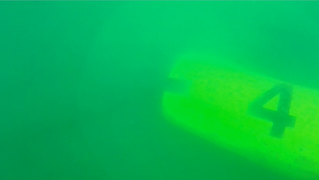4: (248, 82, 296, 139)
pipe: (160, 52, 319, 180)
